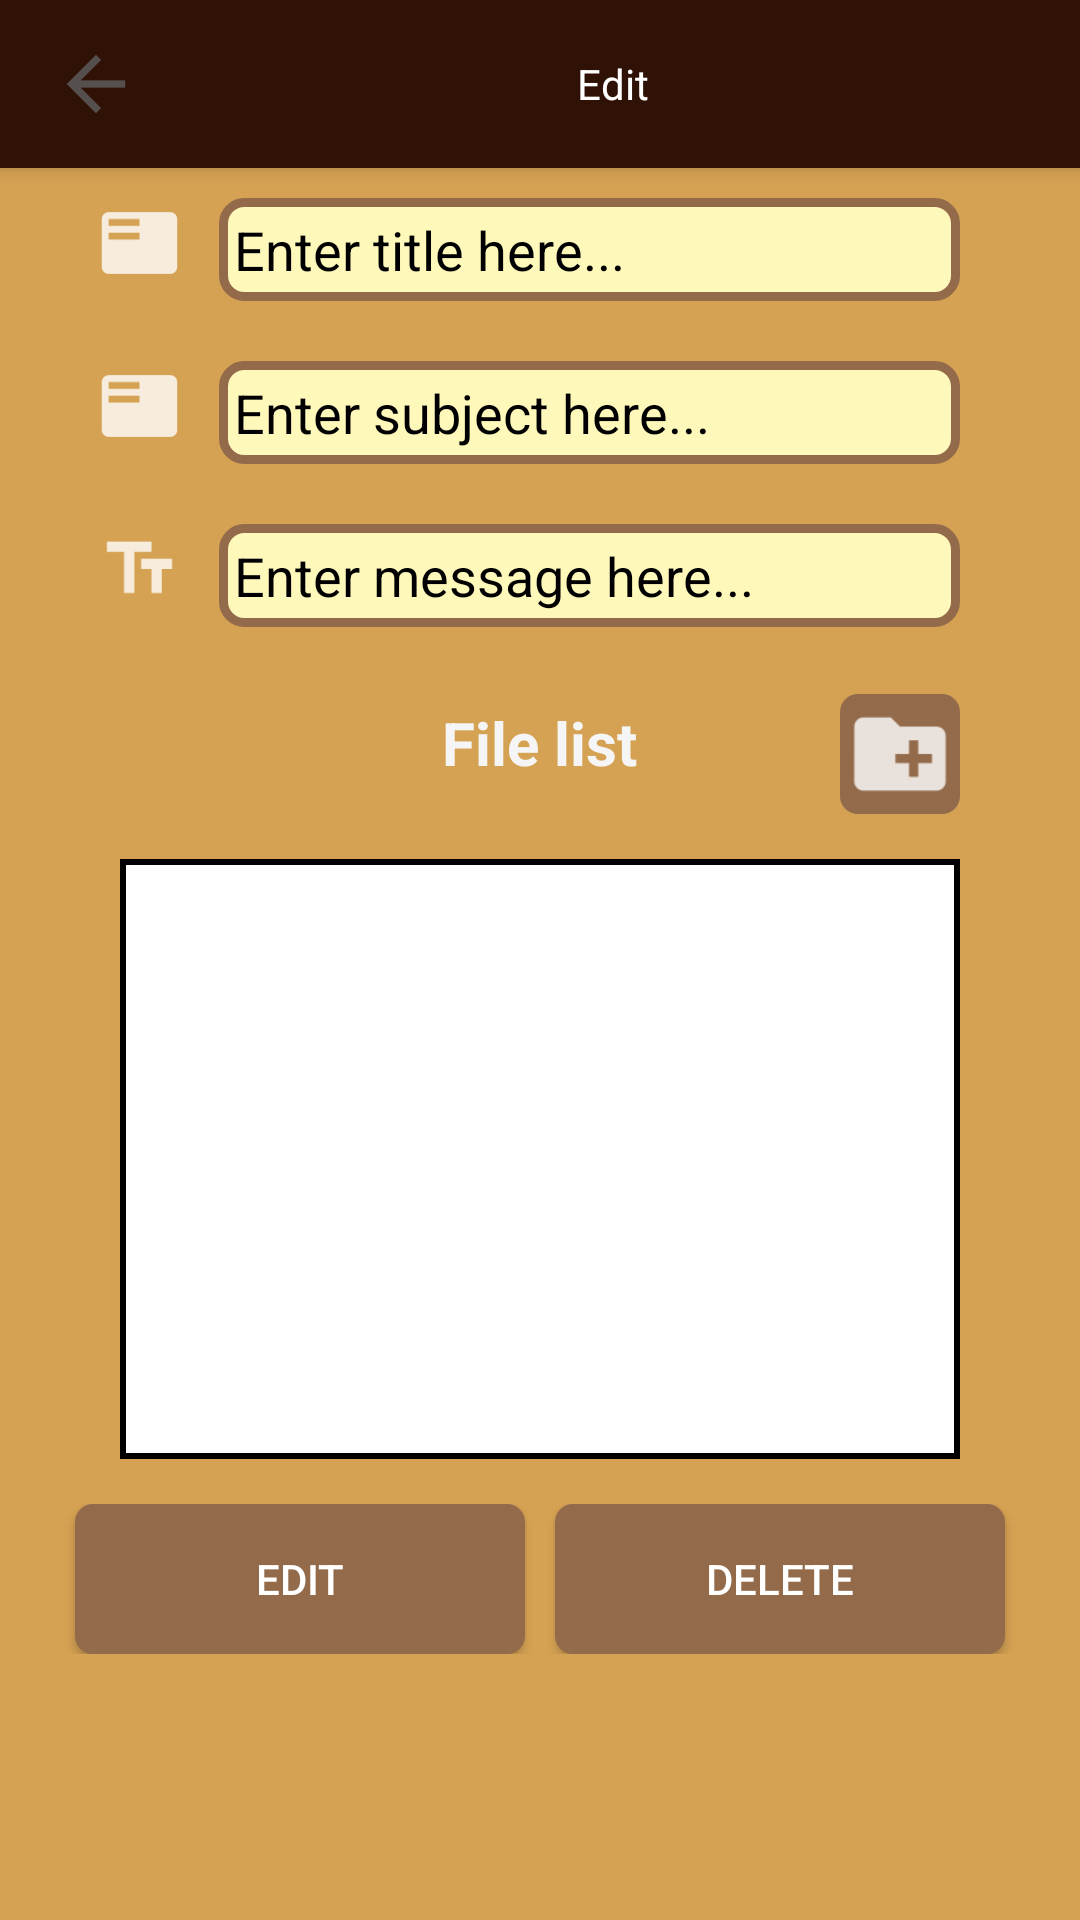

Locate icon controls on the screen. Image size 1080 × 1920, boxes as region(x1, y1, x2, y2).
back: region(67, 55, 125, 113)
select file: region(840, 694, 960, 814)
